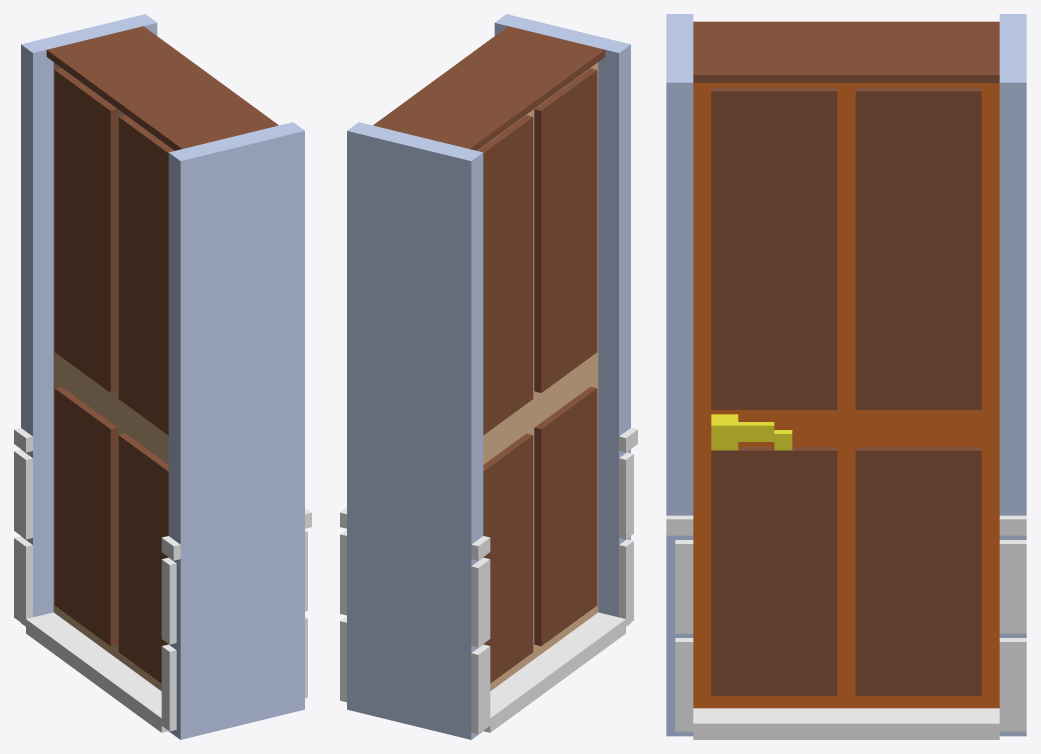
File: wall_with_door.obj
3 renders of one model, left to right at view 1: azimuth 30°, elevation 25°; view 2: azimuth 150°, elevation 25°; view 3: azimuth 270°, elevation 25°, orthographic. The views are drawn at different scales.
Visible parts, largest first — view 1: wall_with_door; view 2: wall_with_door; view 3: wall_with_door.
Part boxes in pixels (<box>): wall_with_door: <box>14,14,311,739</box>; wall_with_door: <box>340,14,637,739</box>; wall_with_door: <box>666,14,1026,739</box>.
Bounding box in the file's own units: 20 × 80 × 40.
1 material, 1 textured.
